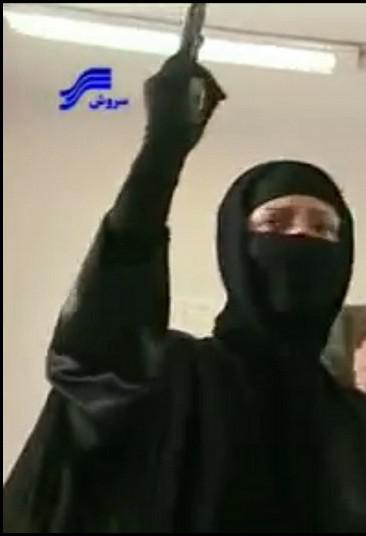OK: (246, 199, 354, 307)
